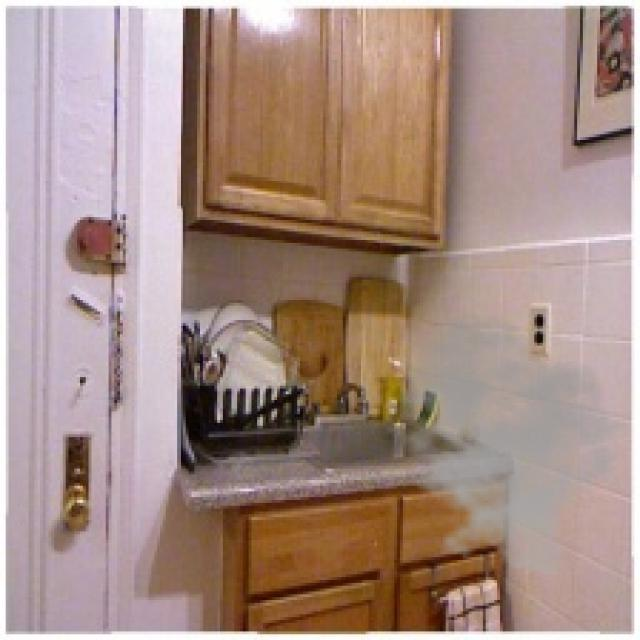Smoke: (374, 312, 632, 577)
